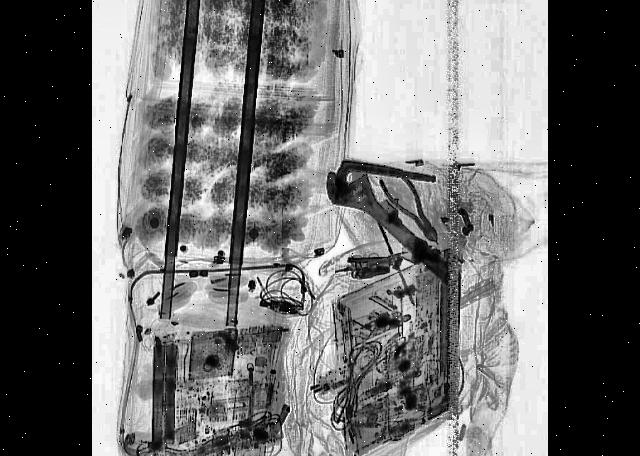Pliers: (378, 158, 448, 258)
Wrench: (322, 148, 466, 304)
